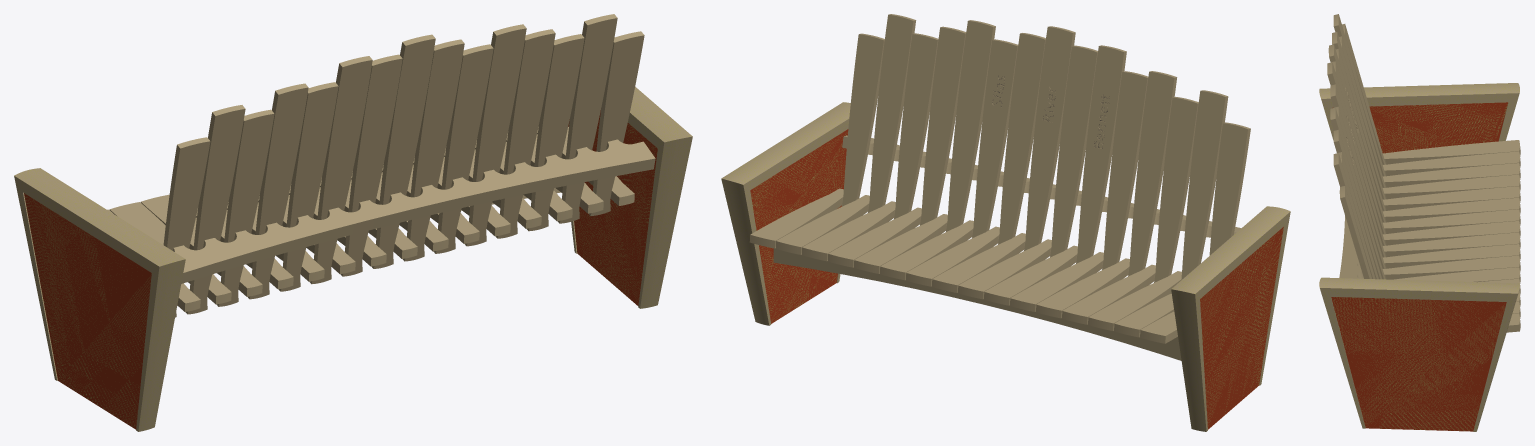
The picture shows the model from 3 angles, left to right: view 1: azimuth 30°, elevation 25°; view 2: azimuth 150°, elevation 25°; view 3: azimuth 270°, elevation 25°; orthographic projection. The views are drawn at different scales.
Parts seen in each view (by area): view 1: mesh122_mesh122-geometry, mesh43_mesh43-geometry, mesh47_mesh47-geometry, mesh60_mesh60-geometry, mesh116_mesh116-geometry, mesh51_mesh51-geometry, mesh55_mesh55-geometry, mesh123_mesh123-geometry, mesh124_mesh124-geometry, mesh16_mesh16-geometry, mesh28_mesh28-geometry, mesh1_mesh1-geometry (+1 smaller); view 2: mesh116_mesh116-geometry, mesh43_mesh43-geometry, mesh122_mesh122-geometry, mesh47_mesh47-geometry, mesh51_mesh51-geometry, mesh123_mesh123-geometry, mesh55_mesh55-geometry, mesh124_mesh124-geometry, mesh16_mesh16-geometry, mesh28_mesh28-geometry, mesh1_mesh1-geometry, mesh5_mesh5-geometry (+2 smaller); view 3: mesh124_mesh124-geometry, mesh116_mesh116-geometry, mesh121_mesh121-geometry, mesh122_mesh122-geometry, mesh43_mesh43-geometry, mesh47_mesh47-geometry, mesh55_mesh55-geometry, mesh51_mesh51-geometry, mesh16_mesh16-geometry, mesh28_mesh28-geometry, mesh60_mesh60-geometry, mesh1_mesh1-geometry (+1 smaller).
Part boxes in pixels (left/top/right/bottom): mesh122_mesh122-geometry: left=14, top=168, right=185, bottom=431; mesh43_mesh43-geometry: left=185, top=14, right=617, bottom=314; mesh47_mesh47-geometry: left=340, top=24, right=526, bottom=276; mesh60_mesh60-geometry: left=173, top=139, right=655, bottom=283; mesh116_mesh116-geometry: left=107, top=127, right=634, bottom=311; mesh51_mesh51-geometry: left=216, top=34, right=584, bottom=306; mesh55_mesh55-geometry: left=163, top=31, right=644, bottom=317; mesh123_mesh123-geometry: left=568, top=110, right=657, bottom=305; mesh124_mesh124-geometry: left=571, top=86, right=692, bottom=308; mesh16_mesh16-geometry: left=372, top=34, right=435, bottom=268; mesh28_mesh28-geometry: left=309, top=56, right=372, bottom=284; mesh1_mesh1-geometry: left=248, top=83, right=308, bottom=299; mesh116_mesh116-geometry: left=749, top=188, right=1181, bottom=343; mesh43_mesh43-geometry: left=868, top=14, right=1228, bottom=279; mesh122_mesh122-geometry: left=1171, top=206, right=1290, bottom=431; mesh47_mesh47-geometry: left=946, top=20, right=1097, bottom=257; mesh51_mesh51-geometry: left=893, top=33, right=1198, bottom=282; mesh123_mesh123-geometry: left=750, top=129, right=848, bottom=323; mesh55_mesh55-geometry: left=842, top=33, right=1250, bottom=255; mesh124_mesh124-geometry: left=721, top=102, right=850, bottom=325; mesh16_mesh16-geometry: left=1024, top=26, right=1075, bottom=250; mesh28_mesh28-geometry: left=1076, top=45, right=1126, bottom=263; mesh1_mesh1-geometry: left=1128, top=71, right=1177, bottom=276; mesh5_mesh5-geometry: left=972, top=39, right=1018, bottom=238; mesh124_mesh124-geometry: left=1319, top=277, right=1519, bottom=431; mesh116_mesh116-geometry: left=1382, top=140, right=1520, bottom=332; mesh121_mesh121-geometry: left=1333, top=102, right=1508, bottom=153; mesh122_mesh122-geometry: left=1319, top=83, right=1519, bottom=141; mesh43_mesh43-geometry: left=1333, top=14, right=1385, bottom=279; mesh47_mesh47-geometry: left=1330, top=61, right=1385, bottom=279; mesh55_mesh55-geometry: left=1339, top=24, right=1385, bottom=278; mesh51_mesh51-geometry: left=1337, top=36, right=1385, bottom=279; mesh16_mesh16-geometry: left=1327, top=62, right=1385, bottom=245; mesh28_mesh28-geometry: left=1328, top=44, right=1385, bottom=222; mesh60_mesh60-geometry: left=1339, top=216, right=1363, bottom=278; mesh1_mesh1-geometry: left=1332, top=32, right=1385, bottom=199.
Bounding box in the file's own units: 0.8152 × 0.4767 × 0.3289.
